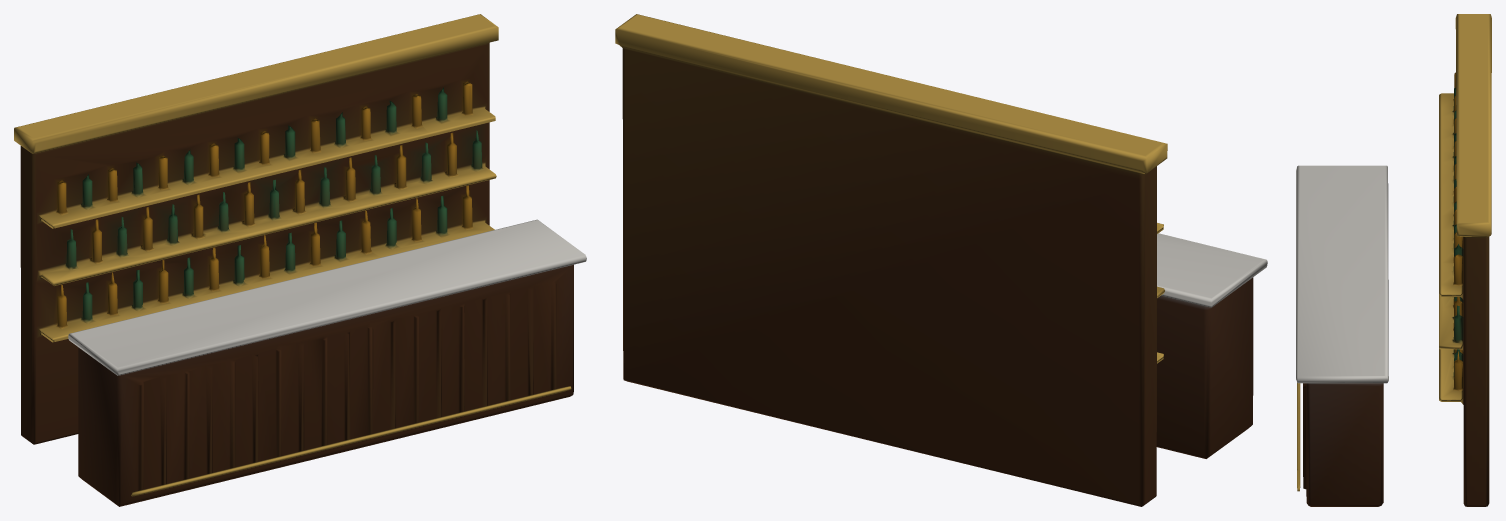
The model's file is lumiere-bar-counter.glb.
The picture shows the model from 3 angles, left to right: view 1: azimuth 30°, elevation 25°; view 2: azimuth 150°, elevation 25°; view 3: azimuth 270°, elevation 25°; orthographic projection. The views are drawn at different scales.
Parts seen in each view (by area): view 1: lumiere-bar-counter_LOD0; view 2: lumiere-bar-counter_LOD0; view 3: lumiere-bar-counter_LOD0.
Boxes of the visible parts, left/top/right/bottom form: lumiere-bar-counter_LOD0: left=14, top=14, right=586, bottom=506; lumiere-bar-counter_LOD0: left=615, top=14, right=1267, bottom=506; lumiere-bar-counter_LOD0: left=1296, top=14, right=1491, bottom=506.
Size of what is drawn, in the model's own units: 3.89 by 2.46 by 1.52.
